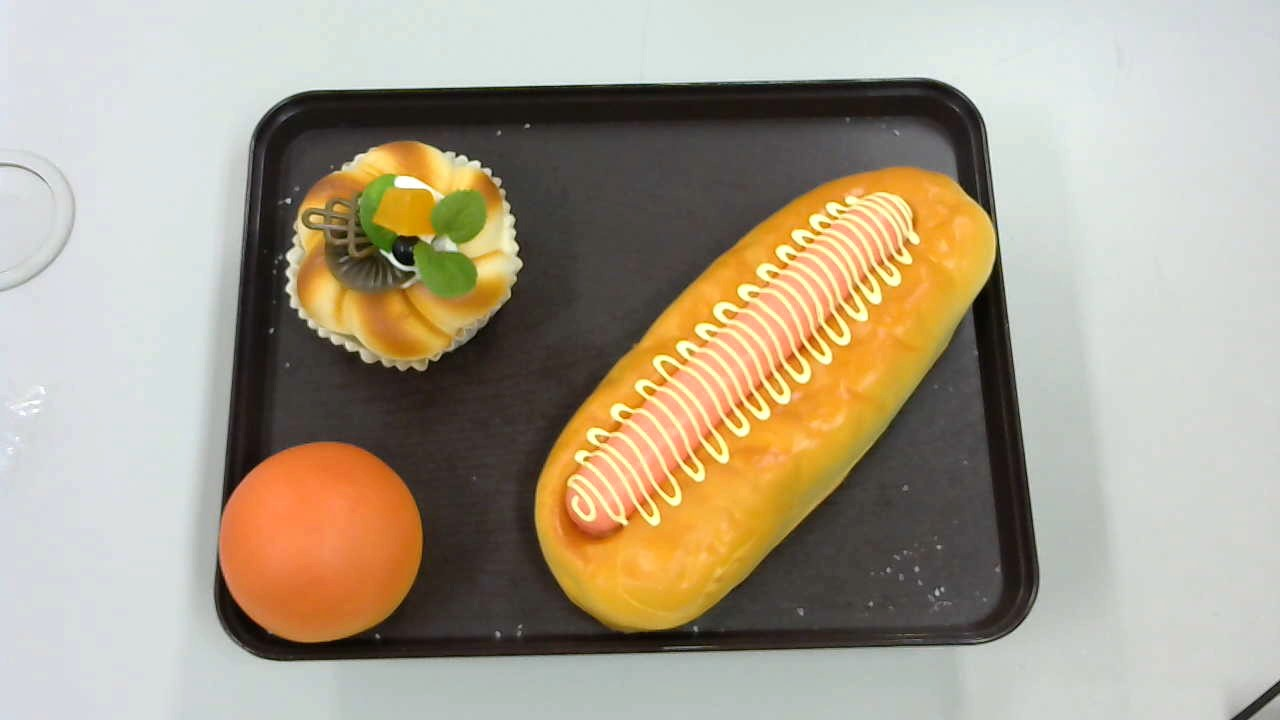bun: (218, 442, 424, 642)
fruit tart: (286, 138, 524, 373)
hot dog: (533, 167, 996, 636)
